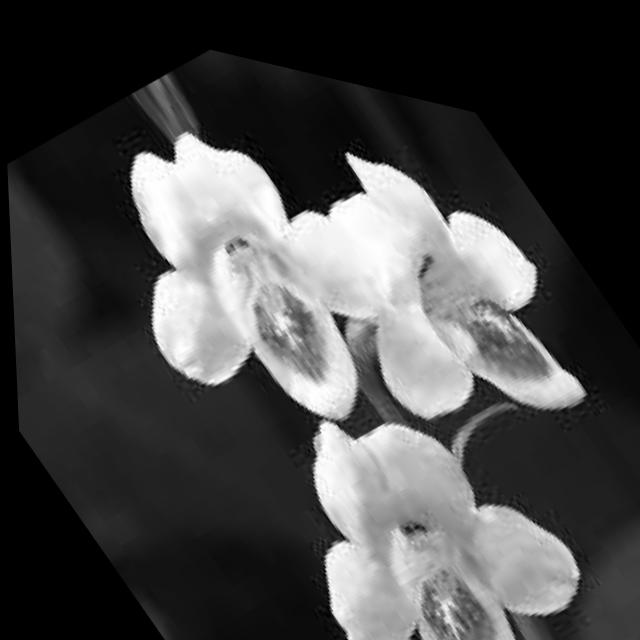Flower: (240, 49, 627, 506), (59, 59, 429, 488), (223, 301, 625, 640)
